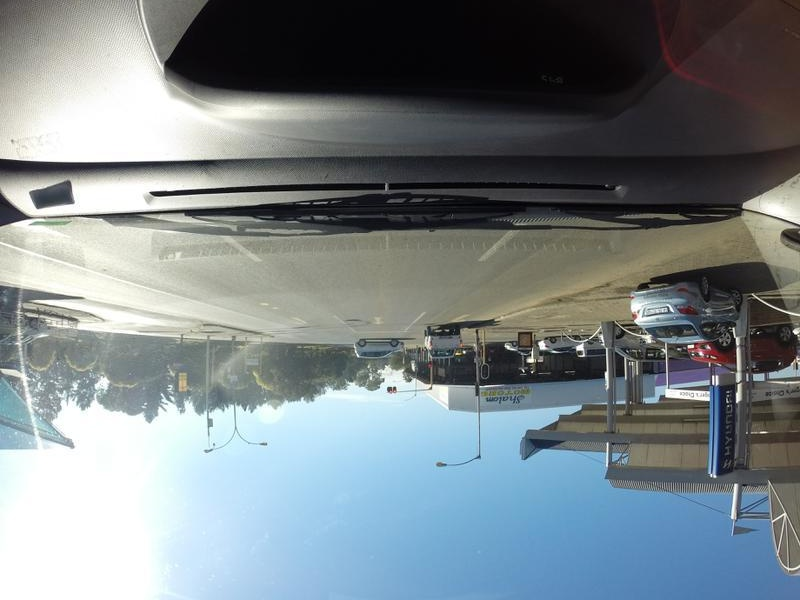pothole: (338, 316, 362, 324)
